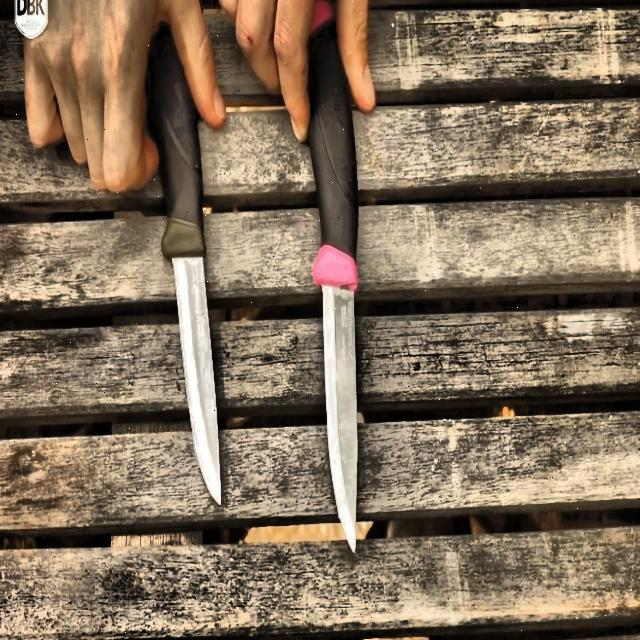knife: (148, 25, 224, 503), (306, 2, 359, 549)
